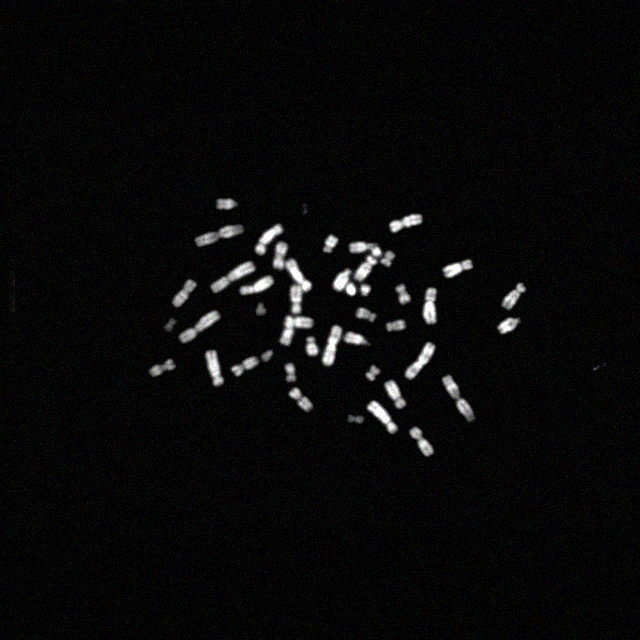chromosome: (442, 375, 476, 423), (210, 261, 255, 293), (180, 311, 220, 344), (196, 223, 244, 247), (366, 401, 398, 435), (405, 343, 435, 379), (286, 258, 312, 292), (255, 224, 282, 254), (322, 326, 342, 366), (173, 278, 197, 308), (409, 427, 433, 457), (384, 378, 406, 409), (240, 274, 274, 294), (502, 282, 526, 310), (206, 350, 224, 386), (390, 214, 424, 232), (422, 287, 438, 325), (354, 256, 376, 282), (348, 242, 382, 258), (290, 388, 312, 412), (232, 356, 258, 376), (149, 358, 176, 377), (444, 260, 472, 278), (333, 268, 351, 290), (498, 316, 520, 334), (274, 242, 288, 268), (281, 318, 294, 346), (290, 286, 302, 314), (285, 316, 313, 328), (343, 332, 367, 346), (322, 235, 340, 252), (396, 284, 410, 304), (356, 308, 376, 322), (386, 319, 406, 331), (306, 336, 318, 356), (218, 198, 237, 210), (284, 363, 296, 382), (382, 251, 396, 267), (255, 302, 268, 318), (366, 365, 379, 381), (164, 318, 176, 334), (346, 414, 364, 424), (262, 348, 273, 362), (346, 281, 356, 295), (360, 284, 370, 296)
